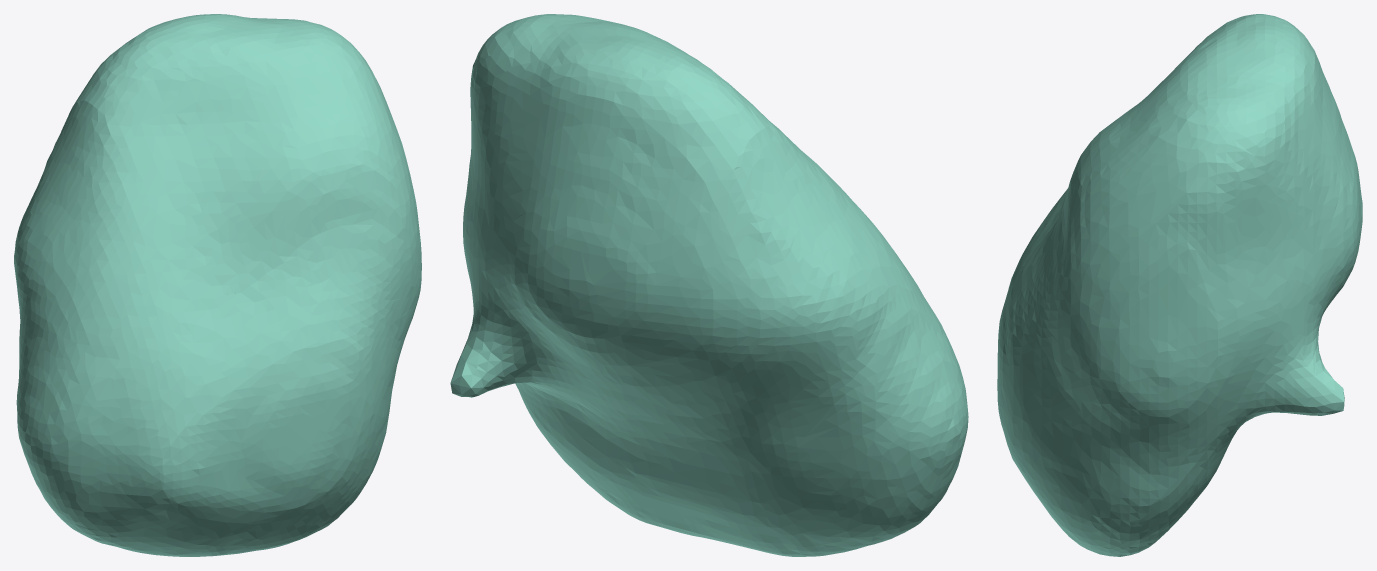
Rendered from ours.glb.
3 views of the same model, side by side, from view 1: azimuth 30°, elevation 25°; view 2: azimuth 150°, elevation 25°; view 3: azimuth 270°, elevation 25° (orthographic). The views are drawn at different scales.
Parts seen in each view (by area): view 1: world; view 2: world; view 3: world.
Boxes of the visible parts, <box> form: world: <box>14,14,421,556</box>; world: <box>450,14,968,556</box>; world: <box>997,14,1362,556</box>.
Size of the model in its own units: 0.7826 by 0.8959 by 0.5887.
